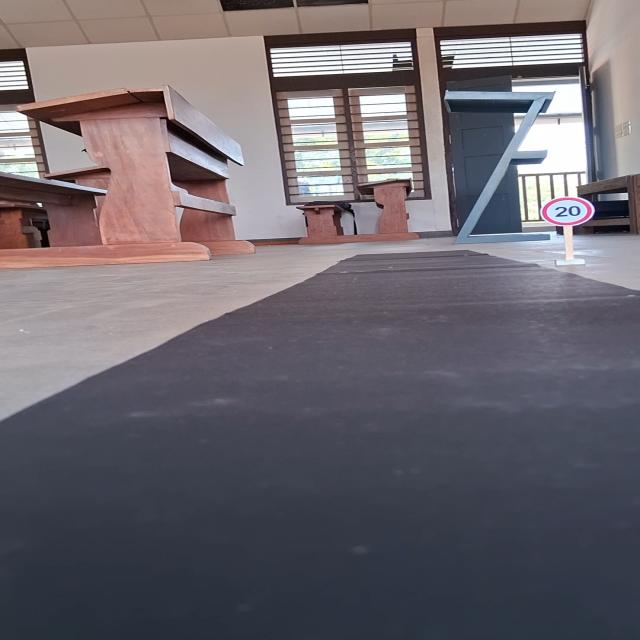Speed20: (539, 196, 596, 227)
